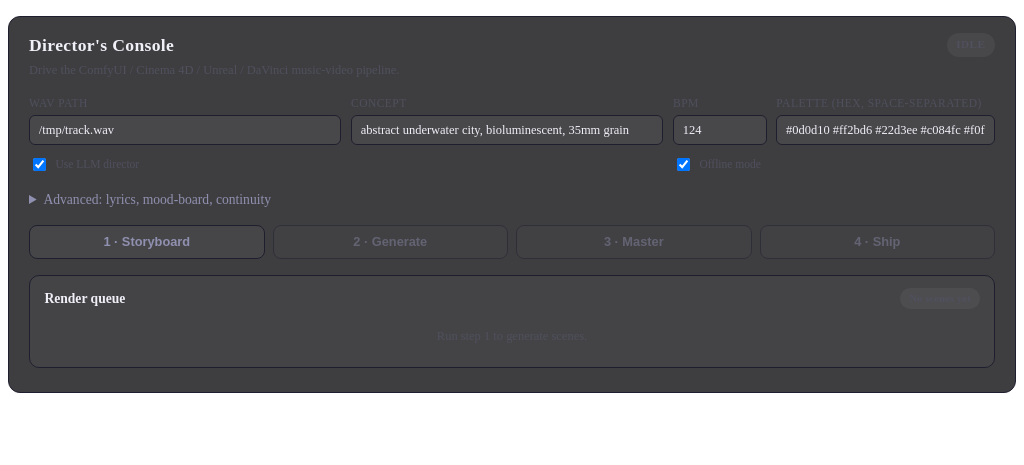
Test: surfaces fetch errors as the error banner
The width and height of the screenshot is (1024, 465).
Click the button with test id "studio-btn-storyboard" at (147, 242), box x1=29 y1=225 x2=264 y2=259
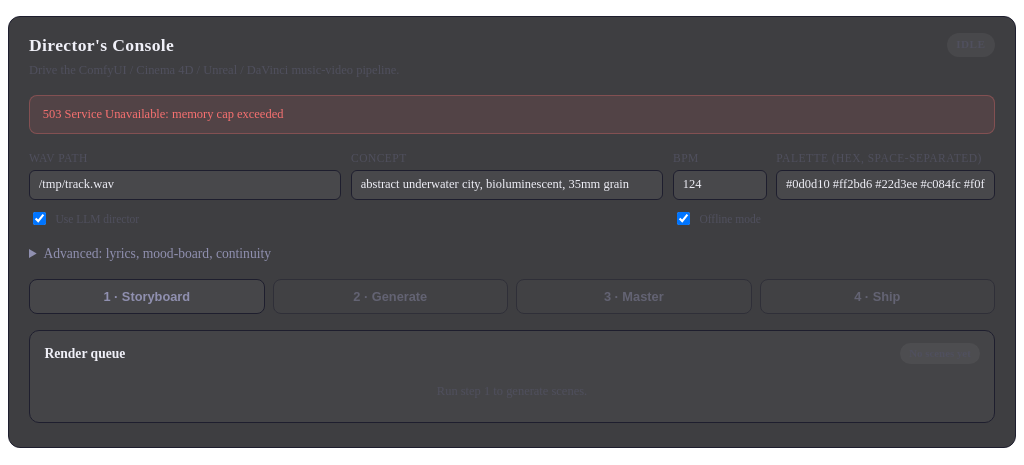
Now the message reads "503 Service Unavailable: memory cap exceeded", box x1=43 y1=107 x2=283 y2=121
